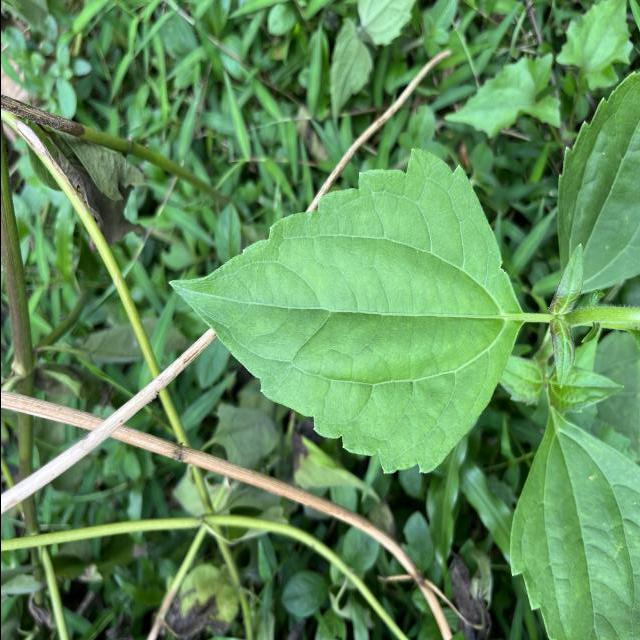Chromolaena odorata: (163, 140, 527, 482)
